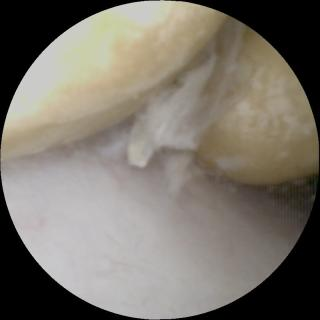stone: (1, 3, 228, 159), (190, 25, 317, 184)
tissue: (3, 103, 310, 309)
